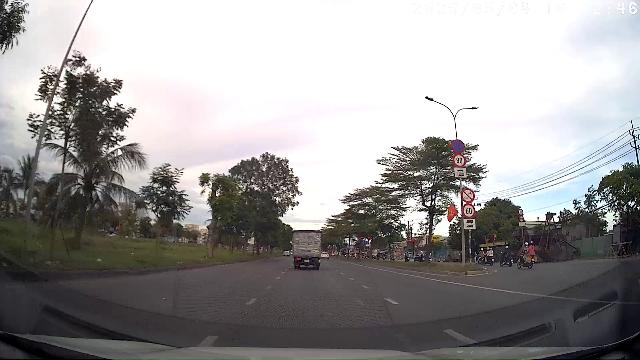127-toc-do-toi-da-60: (461, 204, 476, 218)
127-toc-do-toi-da-80: (452, 154, 467, 168)
130-cam-dung-va-do-xe: (451, 139, 465, 153)
